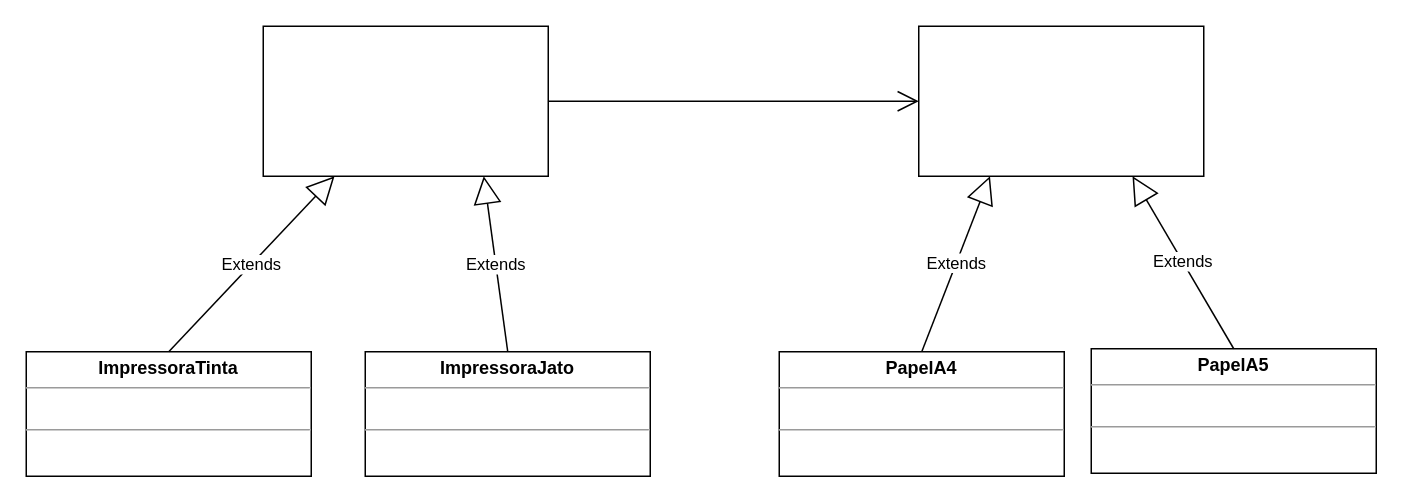
The diagram is 1403 pixels wide and 503 high, and some of its shapes have lost their labels. The centre of each missing label's shape, as x and y in pixels:
<<Abstract>> Impressora: the point at 405,100
<<Interface>> Papel: the point at 1060,100
